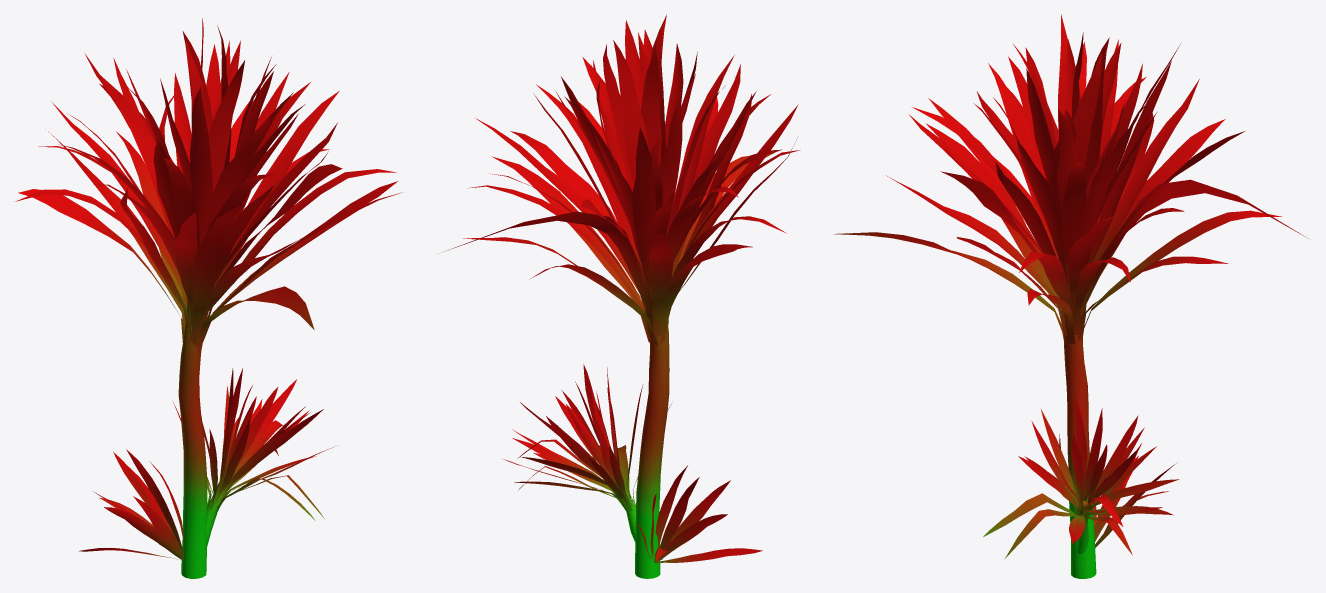
File: SM_Palm05_LOD1.fbx
The picture shows the model from 3 angles, left to right: view 1: azimuth 30°, elevation 25°; view 2: azimuth 150°, elevation 25°; view 3: azimuth 270°, elevation 25°; orthographic projection.
Visible parts, largest first — view 1: _7etz_Var8_LOD3; view 2: _7etz_Var8_LOD3; view 3: _7etz_Var8_LOD3.
Part boxes in pixels (x1,y1,x2,y2): _7etz_Var8_LOD3: (15,18,402,578); _7etz_Var8_LOD3: (443,14,800,578); _7etz_Var8_LOD3: (834,14,1308,578).
Size of the model in its own units: 69.57 by 105 by 83.15.
